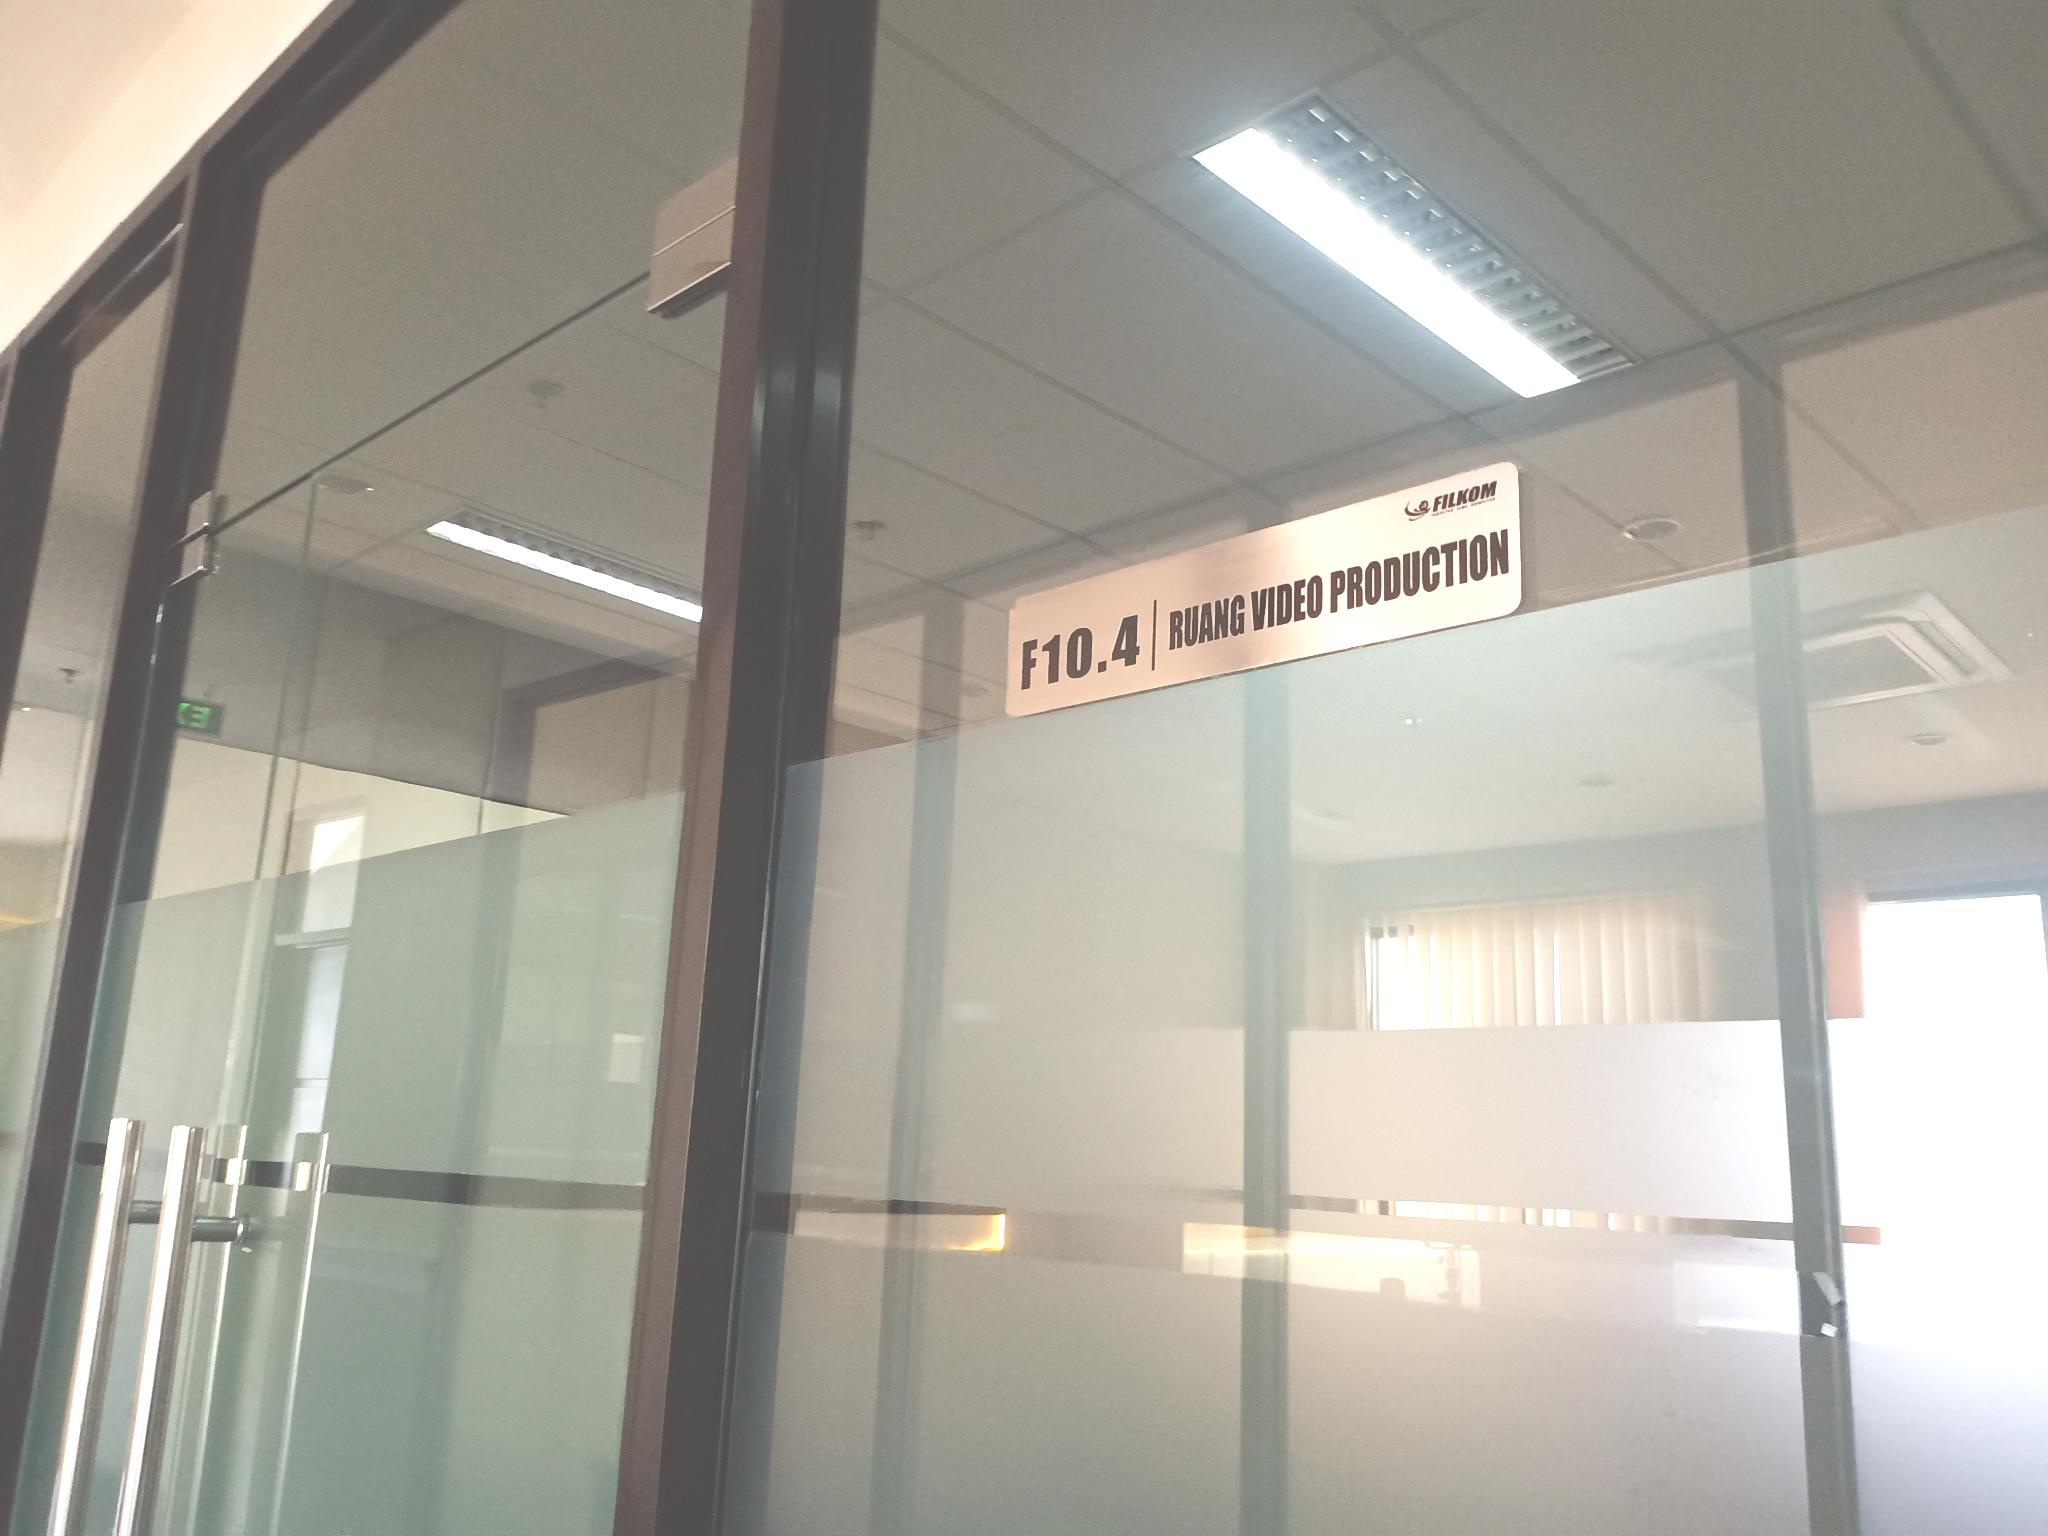plate: (1001, 457, 1522, 723)
